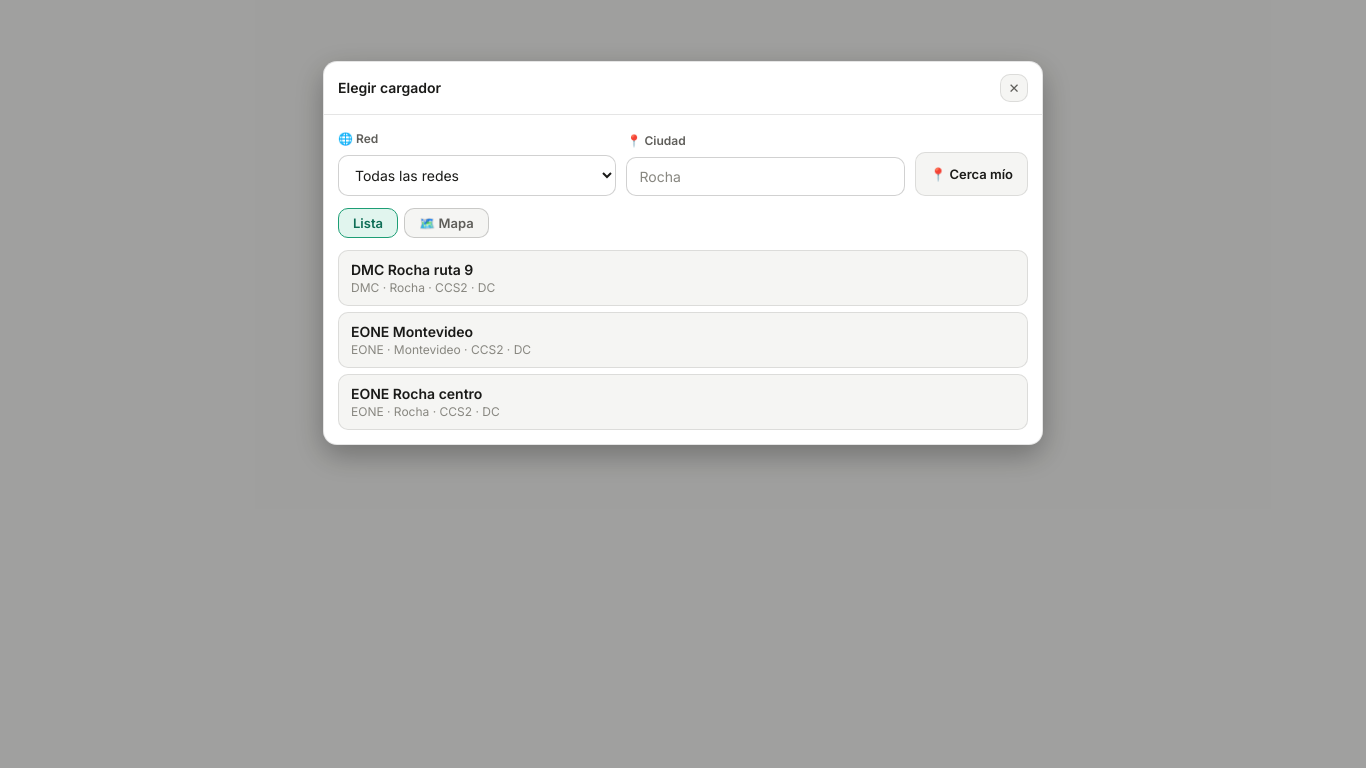
StationPickerModal › narrows the list by network
Select "DMC" in the dropdown labelled "🌐 Red": (477,175) [338, 155, 616, 196]
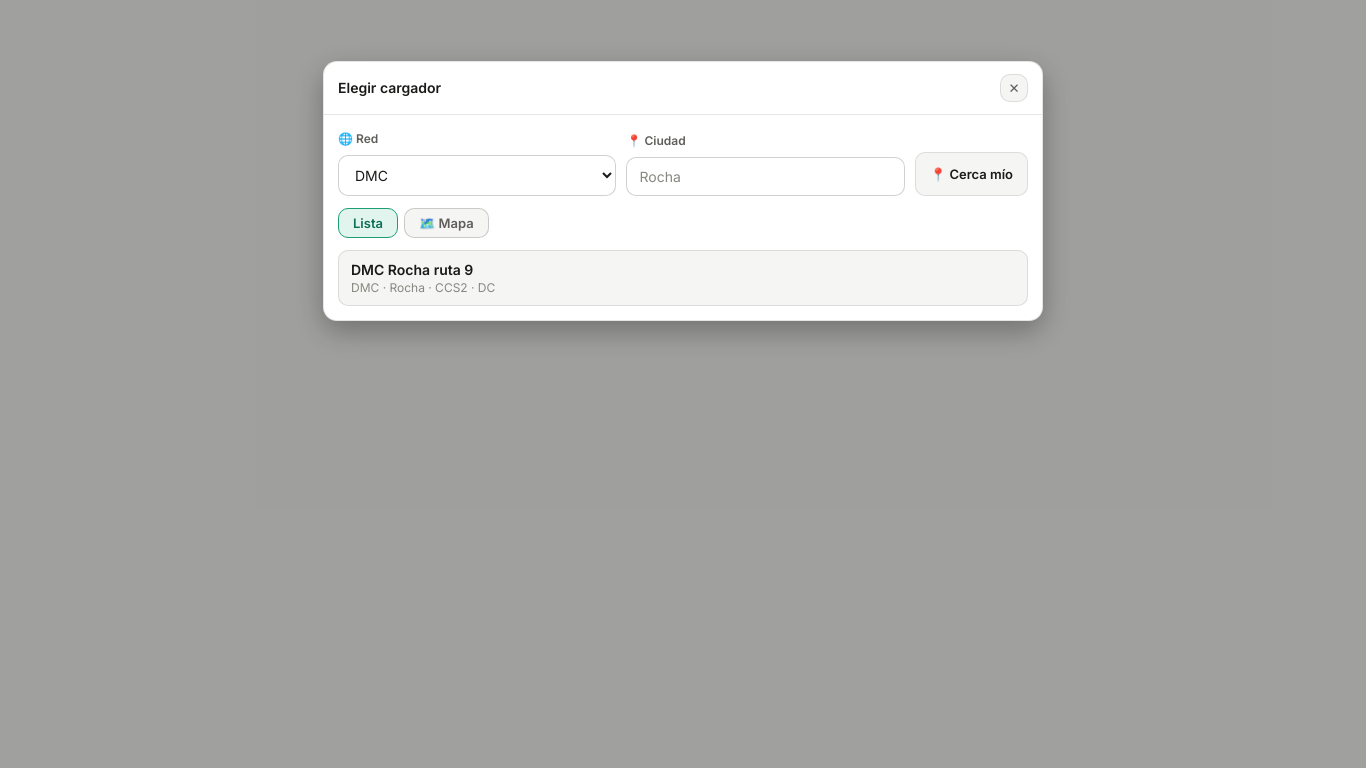
Check: the text "DMC Rocha ruta 9" is shown, box [351, 261, 473, 278]
Check: the button "EONE Rocha centro" is gone
